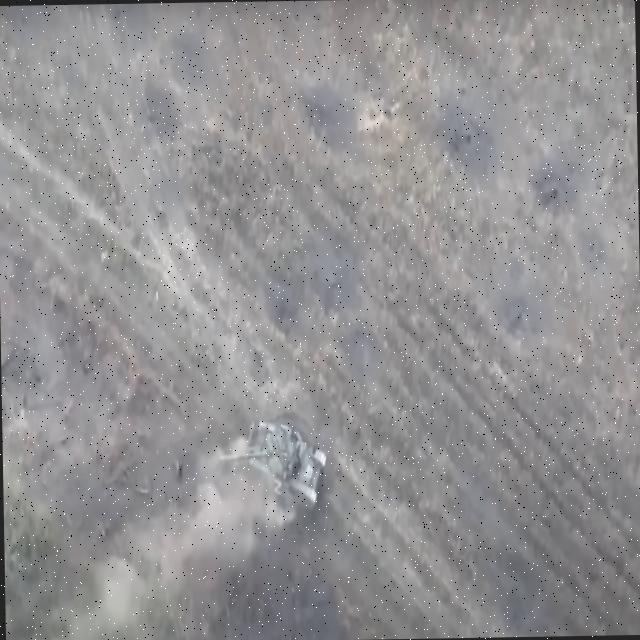MBT: (217, 416, 330, 516)
